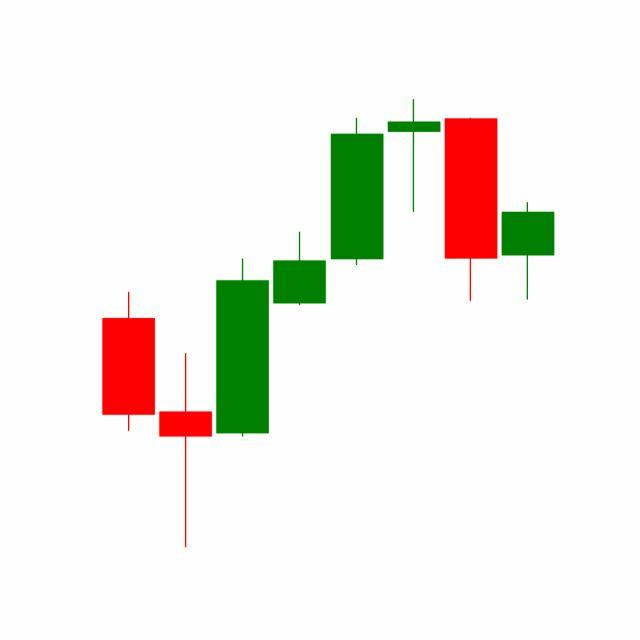Evening Doji Star: (328, 100, 500, 306)
